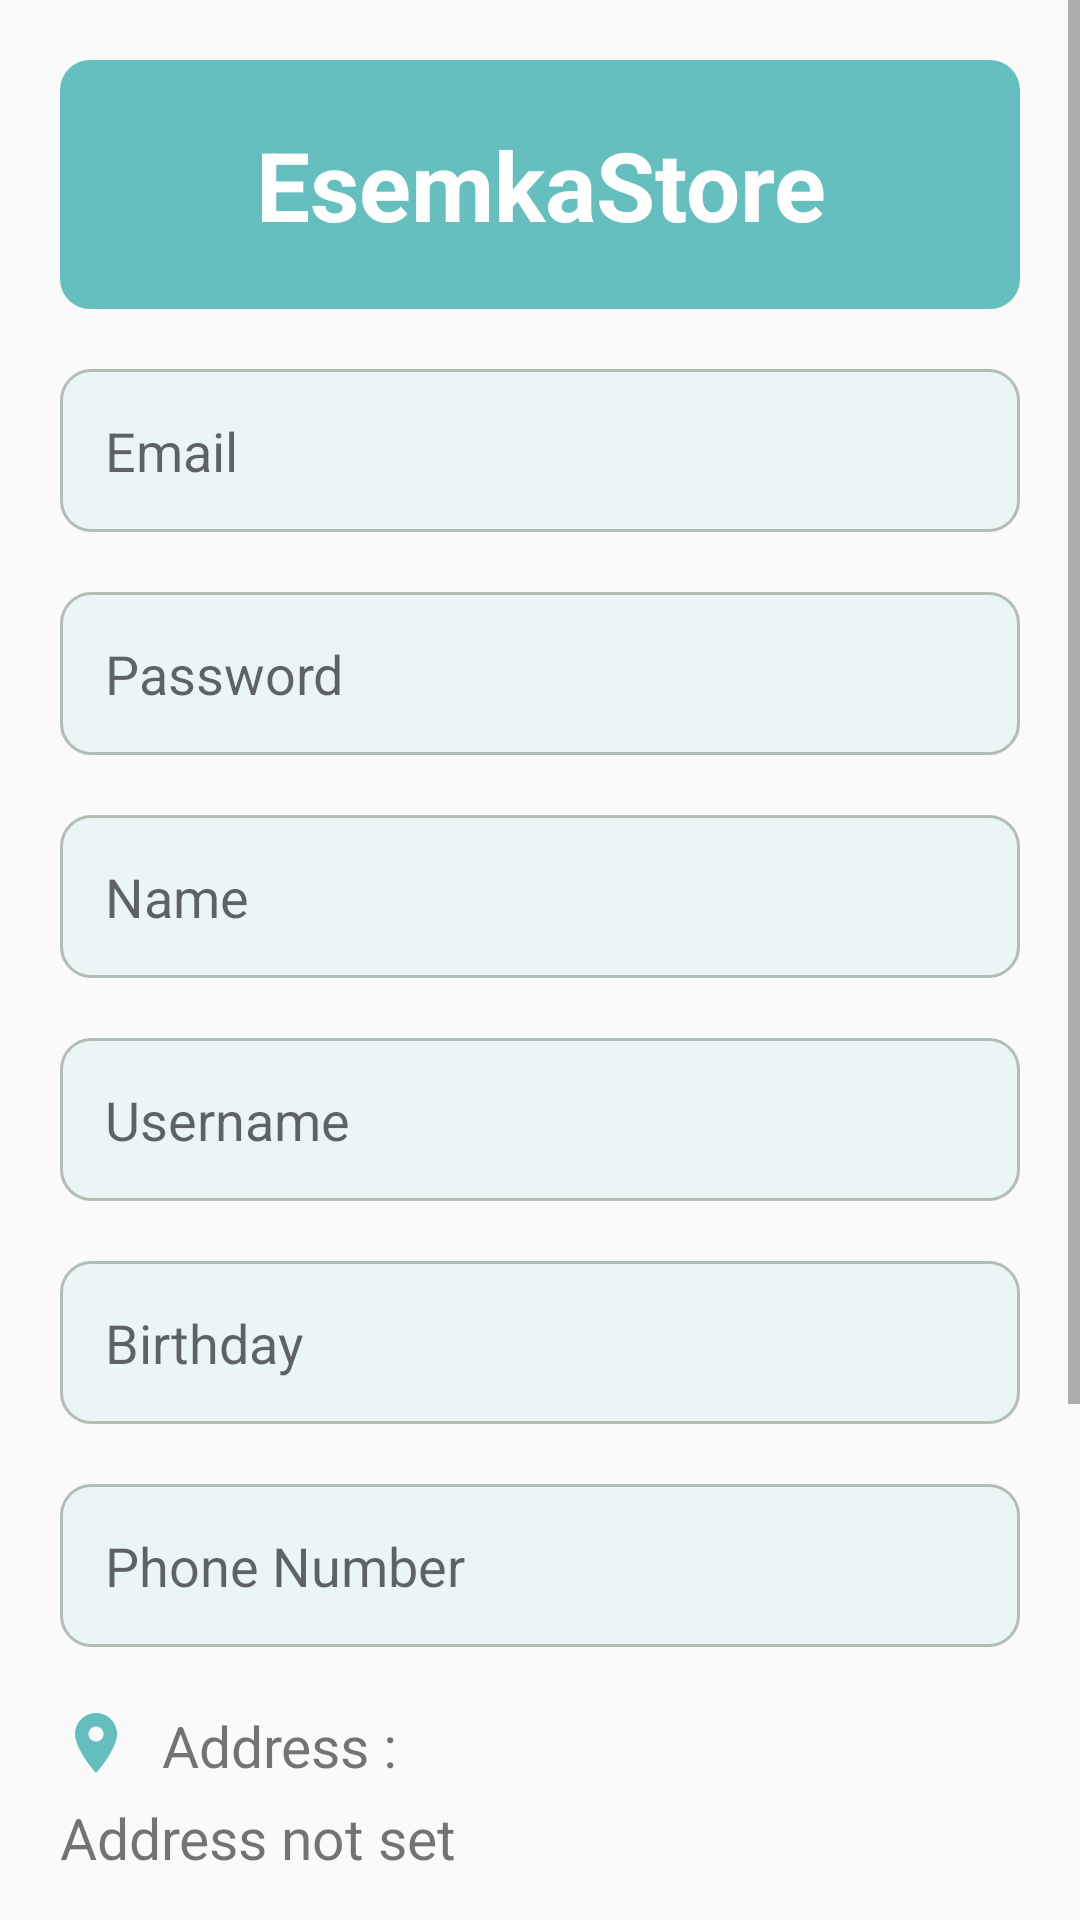

Screen size 1080 × 1920. Icon name, then its center in pixels as [x,y]:
location on: [96,1743]
